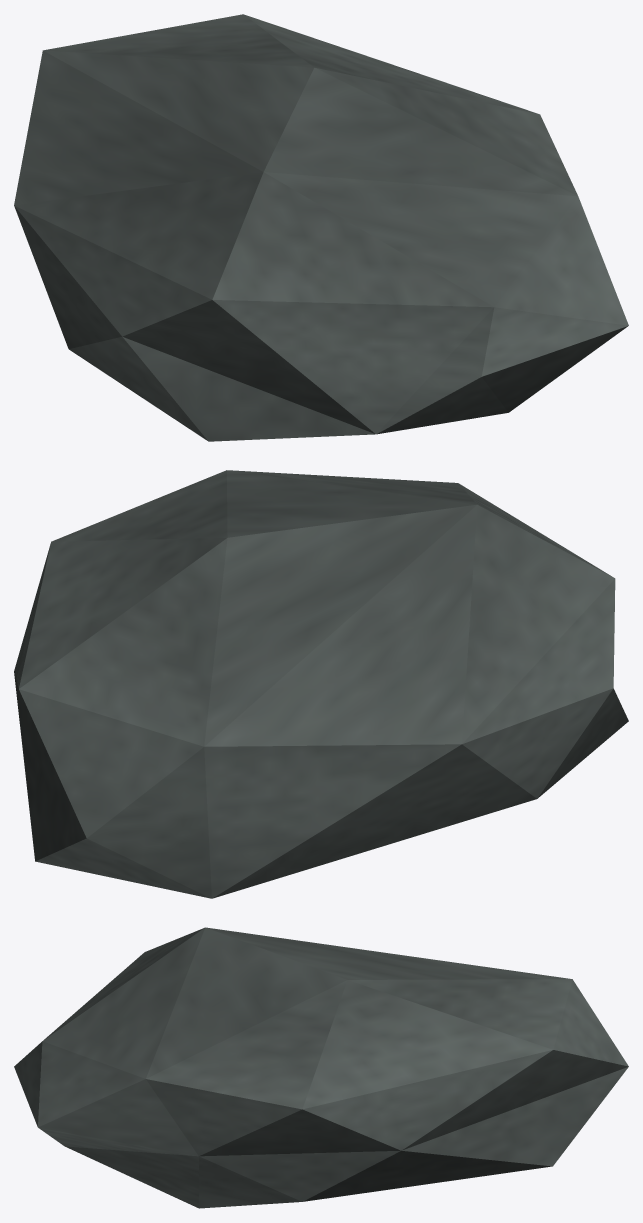
The model's file is rocks.reef_rock.lod1.glb.
The picture shows the model from 3 angles, top to bottom: view 1: azimuth 30°, elevation 25°; view 2: azimuth 150°, elevation 25°; view 3: azimuth 270°, elevation 25°; orthographic projection. The views are drawn at different scales.
Visible parts, largest first — view 1: ReefRock; view 2: ReefRock; view 3: ReefRock.
Part boxes in pixels (bbox=[...]): ReefRock: bbox=[14, 14, 628, 441]; ReefRock: bbox=[14, 470, 628, 898]; ReefRock: bbox=[14, 927, 628, 1208].
Size of the model in its own units: 2.81 by 1.55 by 4.1.
1 material, 1 textured.
